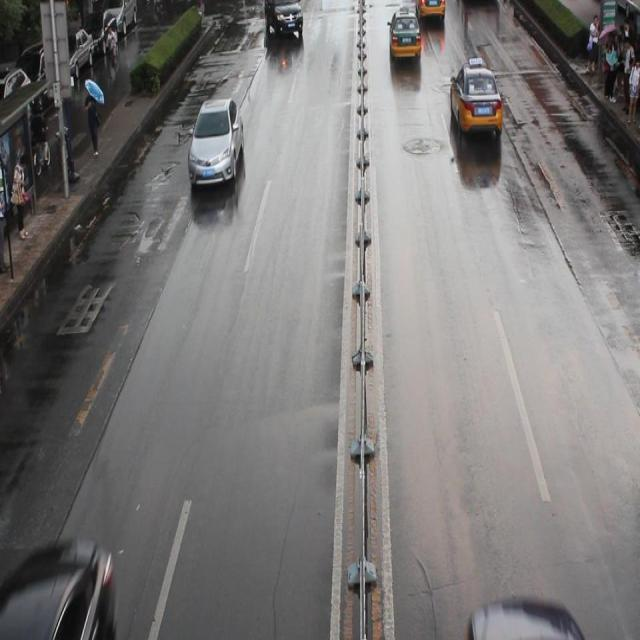car: (0, 534, 120, 640), (466, 592, 586, 640), (188, 97, 244, 187), (449, 60, 502, 134), (387, 10, 421, 61), (264, 1, 304, 36), (413, 1, 445, 19)
